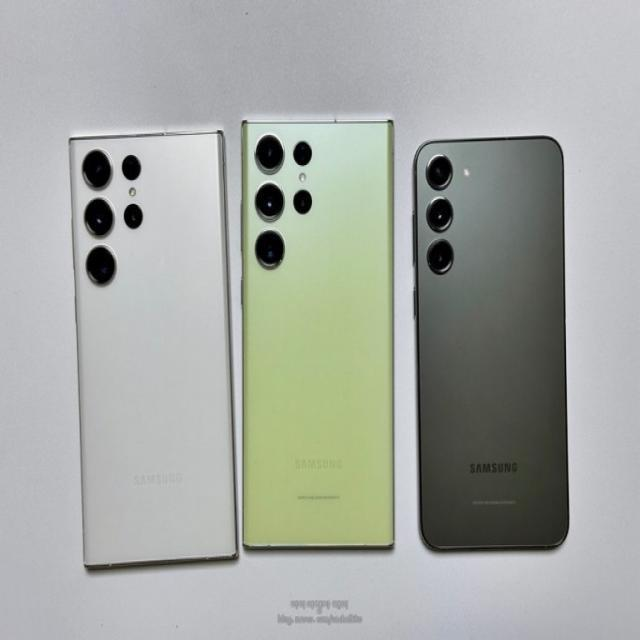phone: (65, 129, 238, 572), (241, 119, 396, 550), (413, 135, 571, 551)
